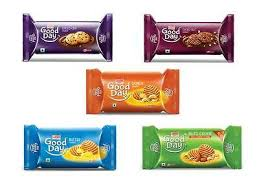gooday-small: (86, 69, 181, 114), (141, 126, 242, 168), (23, 126, 115, 169)
gooday-small-choco: (21, 11, 112, 62), (143, 14, 235, 61)
